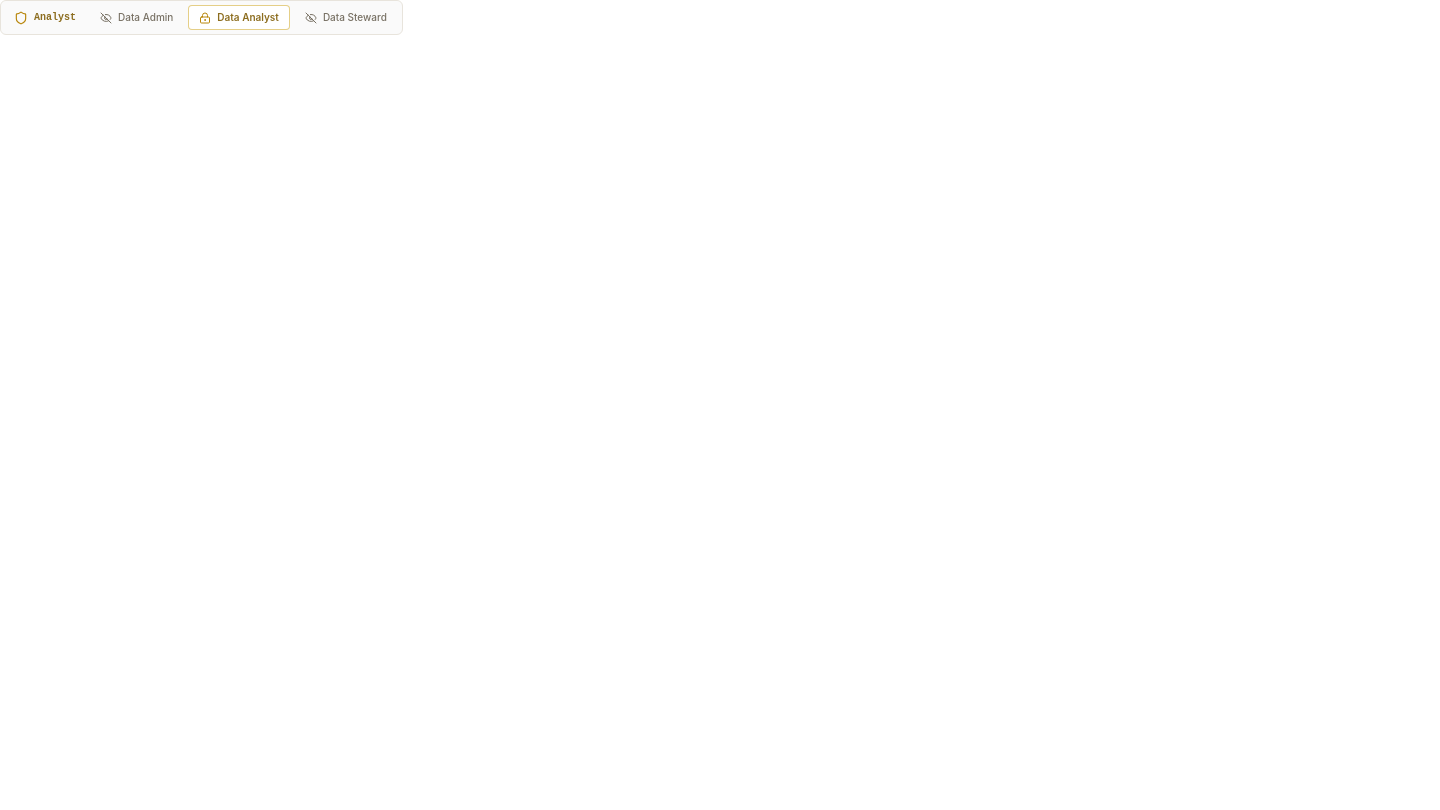
Scenario: ZeroTrustLens — Interactive Role Switcher & Security Governance (HU-FRONT-05) › 6c. Cierra el modal de Zero-Trust al presionar la tecla Escape
The image size is (1440, 810).
Click the button with test id "open-zero-trust-modal" at (45, 18), box [5,5,85,30]
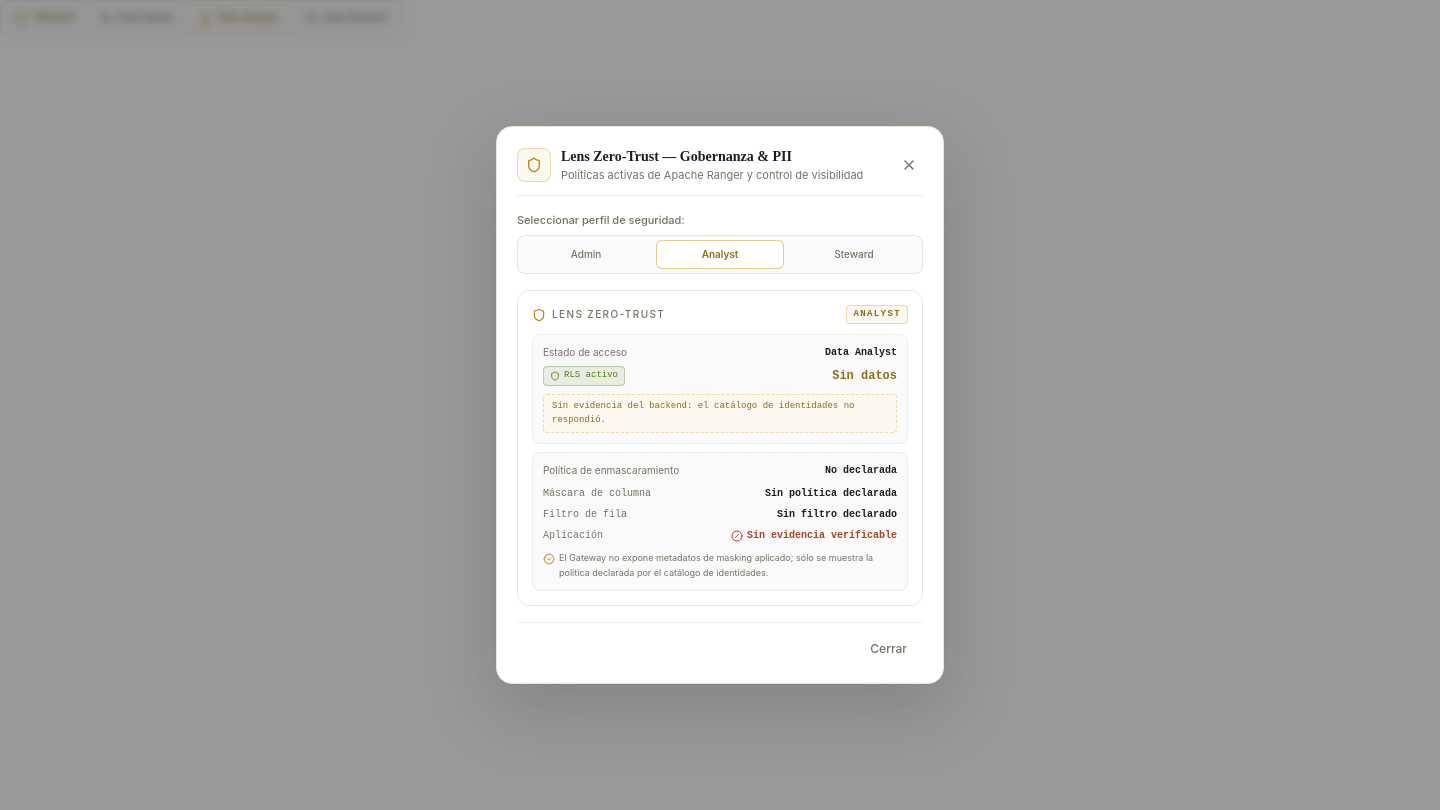
Expected: the dialog is shown
Press Escape
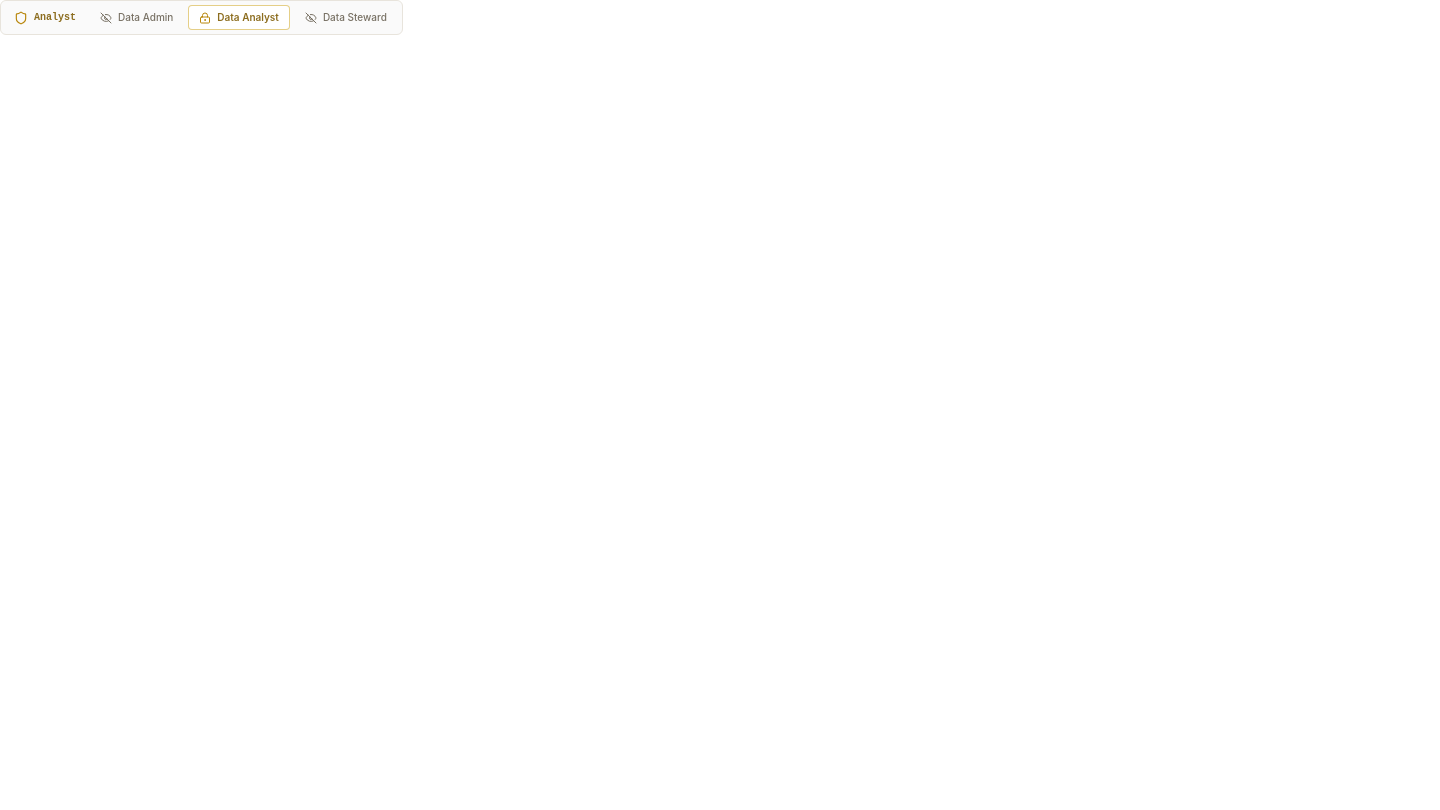
Expected: the dialog is gone
